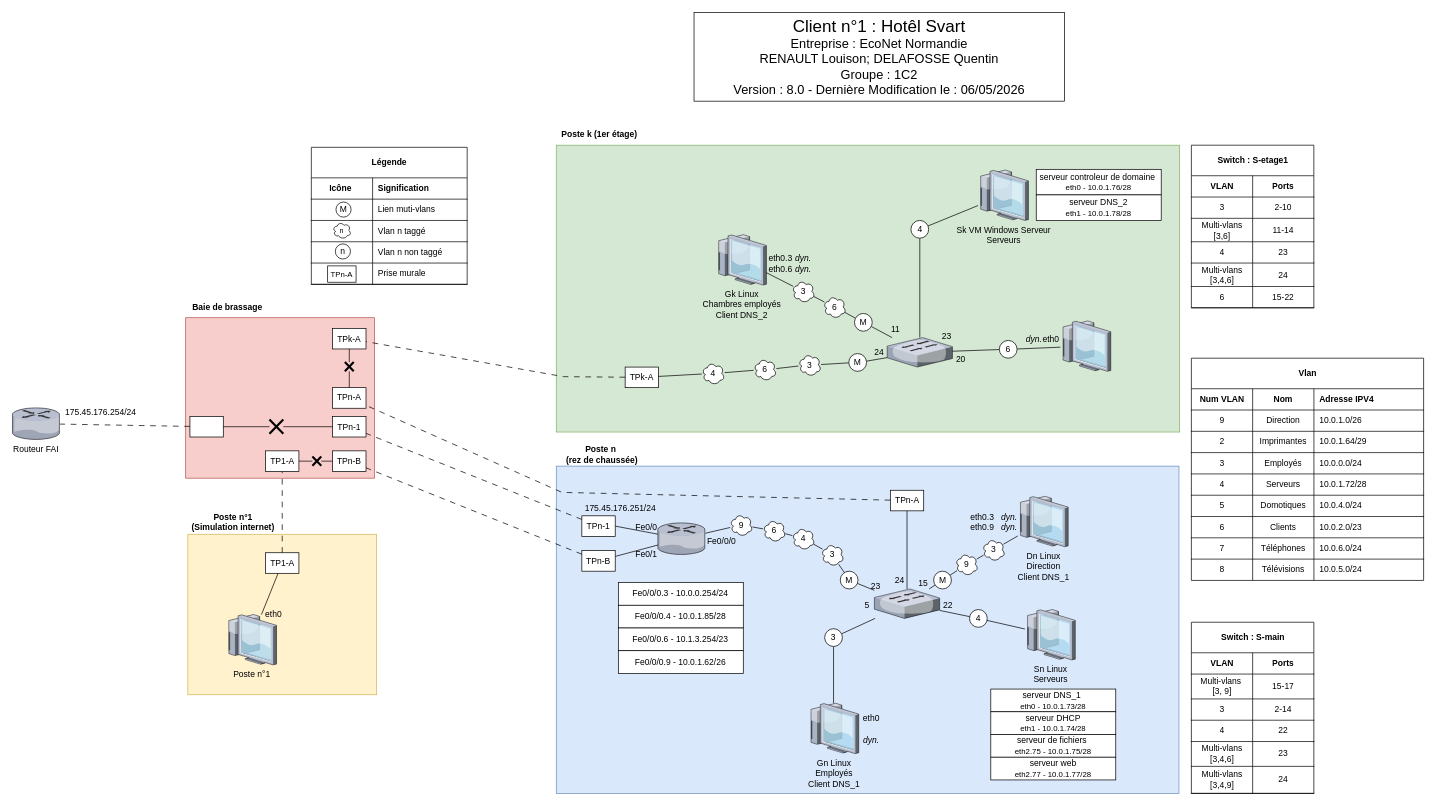
This 1436x806 diagram has some shape labels left out. The centre of each missing label's shape, as x and y in pixels:
"Cisco 2800 : r-main" belongs at point 681,538.
"Dk Windows Clients Client DNS_2" belongs at point 1085,346.
"FAI" belongs at point 206,426.
"Switch Aruba : s-main" belongs at point 906,603.
"Switch Cisco : s-etage1" belongs at point 919,352.
